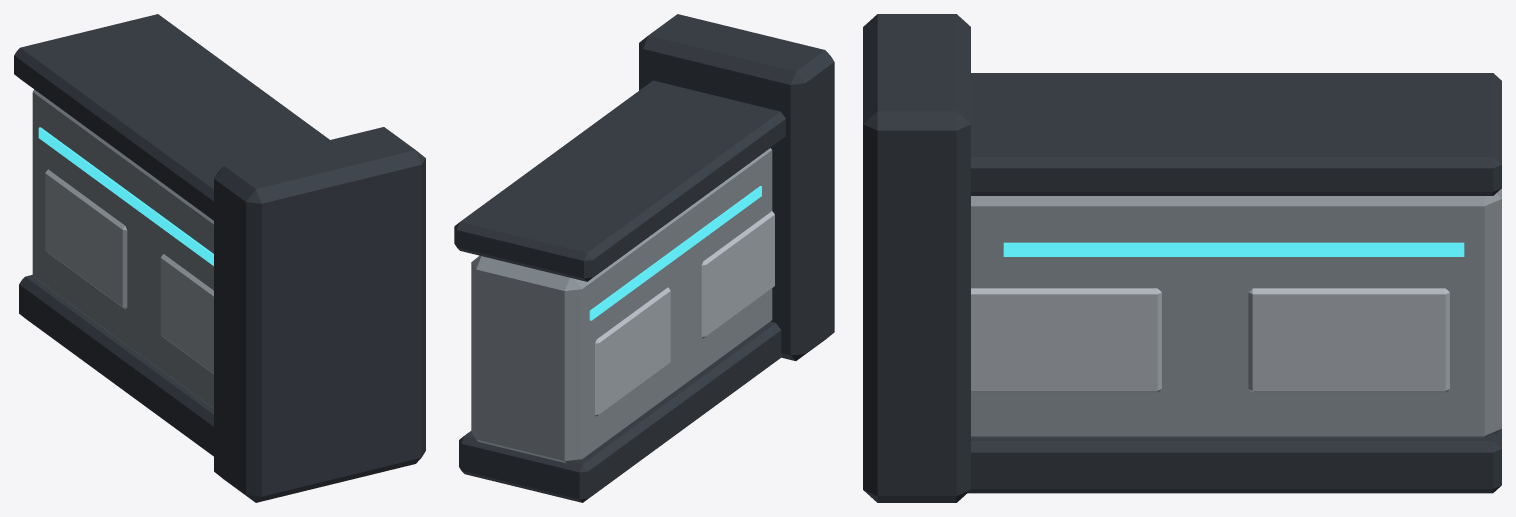
The model's file is exo-wall.glb.
3 renders of one model, left to right at view 1: azimuth 30°, elevation 25°; view 2: azimuth 150°, elevation 25°; view 3: azimuth 270°, elevation 25°, orthographic. The views are drawn at different scales.
Visible parts, largest first — view 1: body; view 2: body; view 3: body.
Boxes of the visible parts, bbox=[...] form: body: bbox=[14, 14, 425, 502]; body: bbox=[454, 14, 834, 502]; body: bbox=[863, 14, 1501, 502].
Bounding box in the file's own units: 1.8 × 3 × 4.43.
